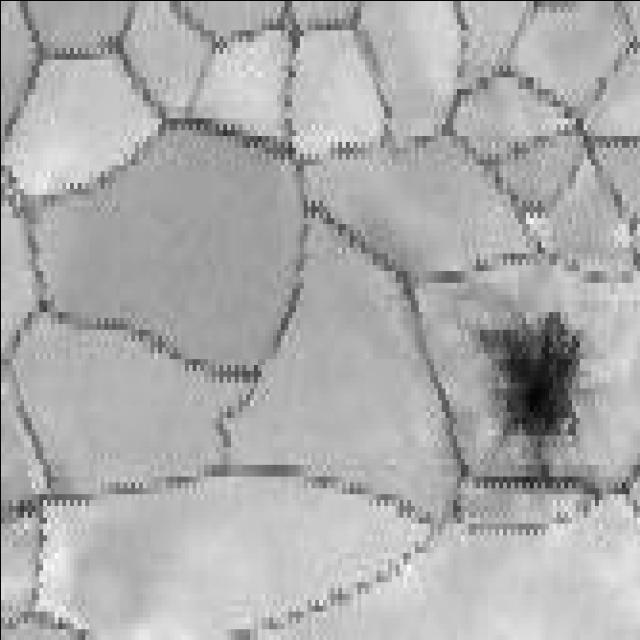good_void: (474, 308, 588, 465)
